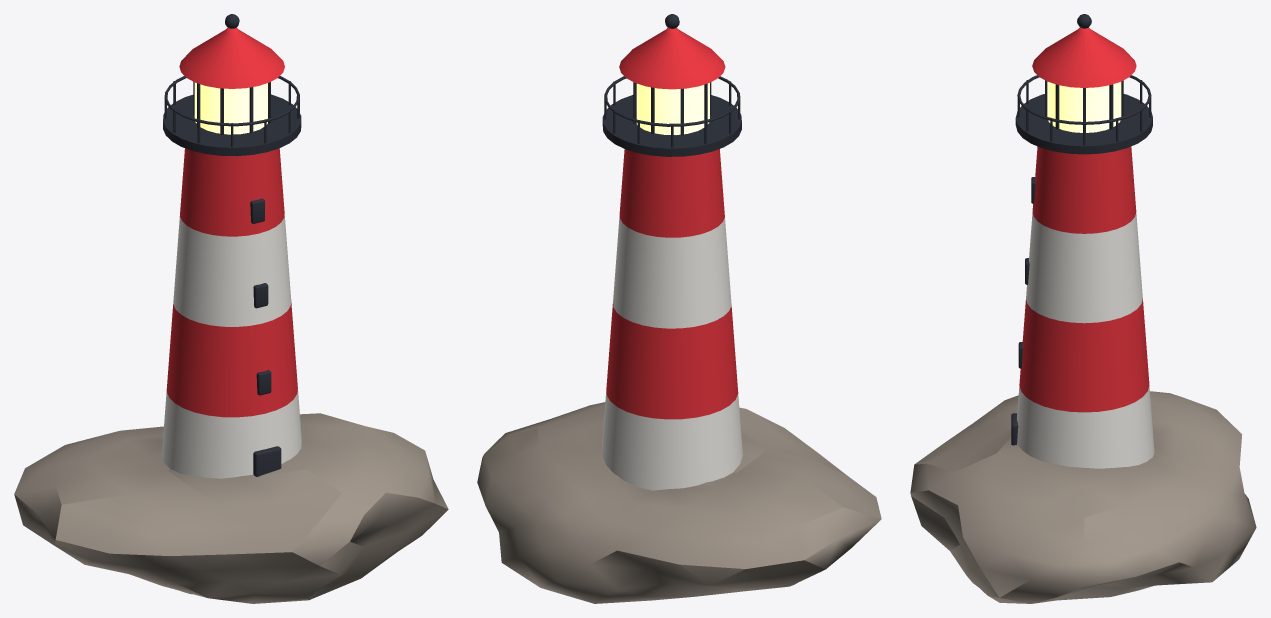
The model's file is lighthouse.glb.
3 renders of one model, left to right at view 1: azimuth 30°, elevation 25°; view 2: azimuth 150°, elevation 25°; view 3: azimuth 270°, elevation 25°, orthographic.
Visible parts, largest first — view 1: Lighthouse; view 2: Lighthouse; view 3: Lighthouse.
Part boxes in pixels (bbox=[...]): Lighthouse: bbox=[14, 14, 448, 603]; Lighthouse: bbox=[477, 14, 881, 603]; Lighthouse: bbox=[910, 14, 1256, 603].
Bounding box in the file's own units: 14.59 × 20.28 × 11.61.
